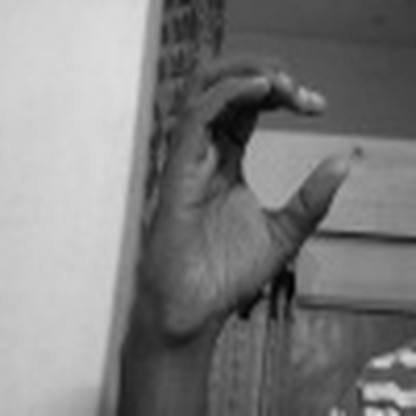c: (145, 43, 377, 311)
